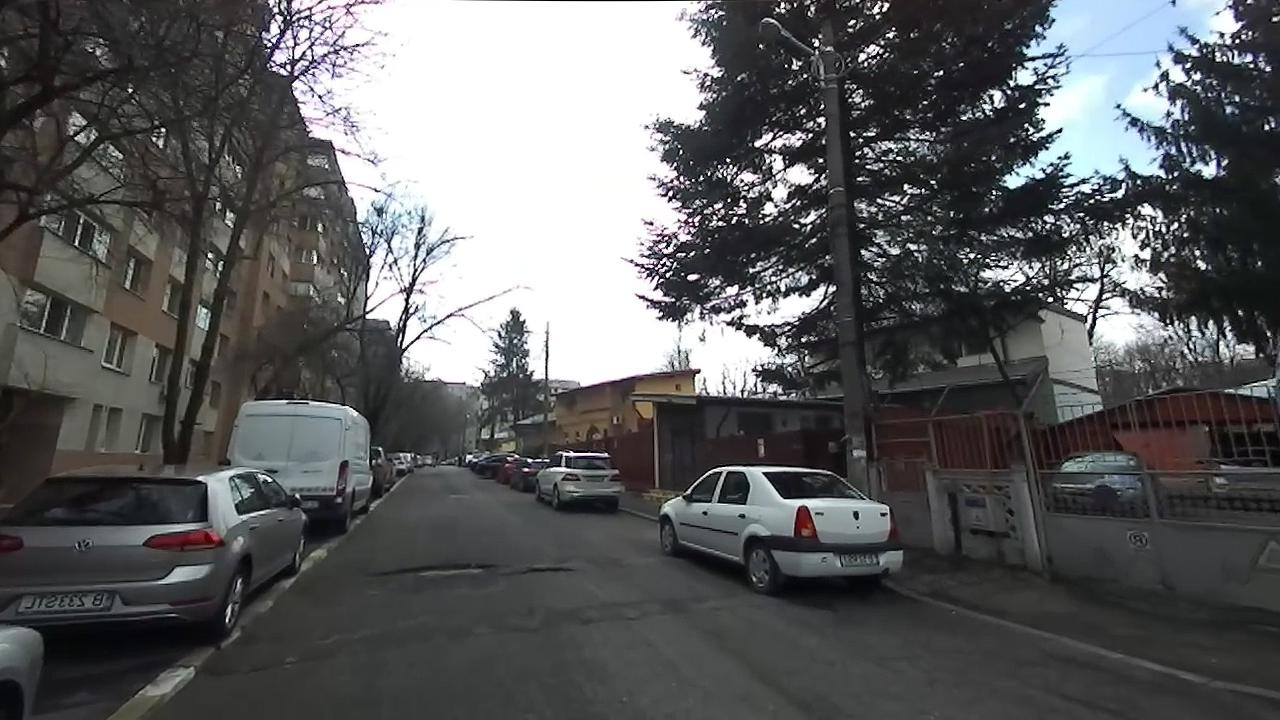pothole: (366, 560, 495, 580), (514, 562, 578, 576)
